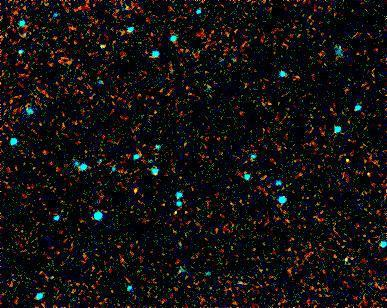star: (353, 164, 383, 194)
